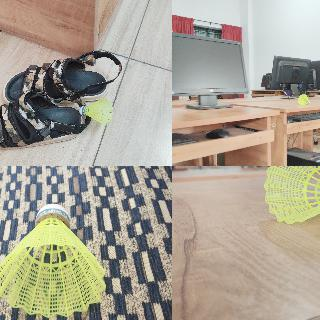shuttlecock: (0, 203, 107, 317), (263, 166, 319, 224), (80, 98, 112, 124), (297, 94, 309, 105)
